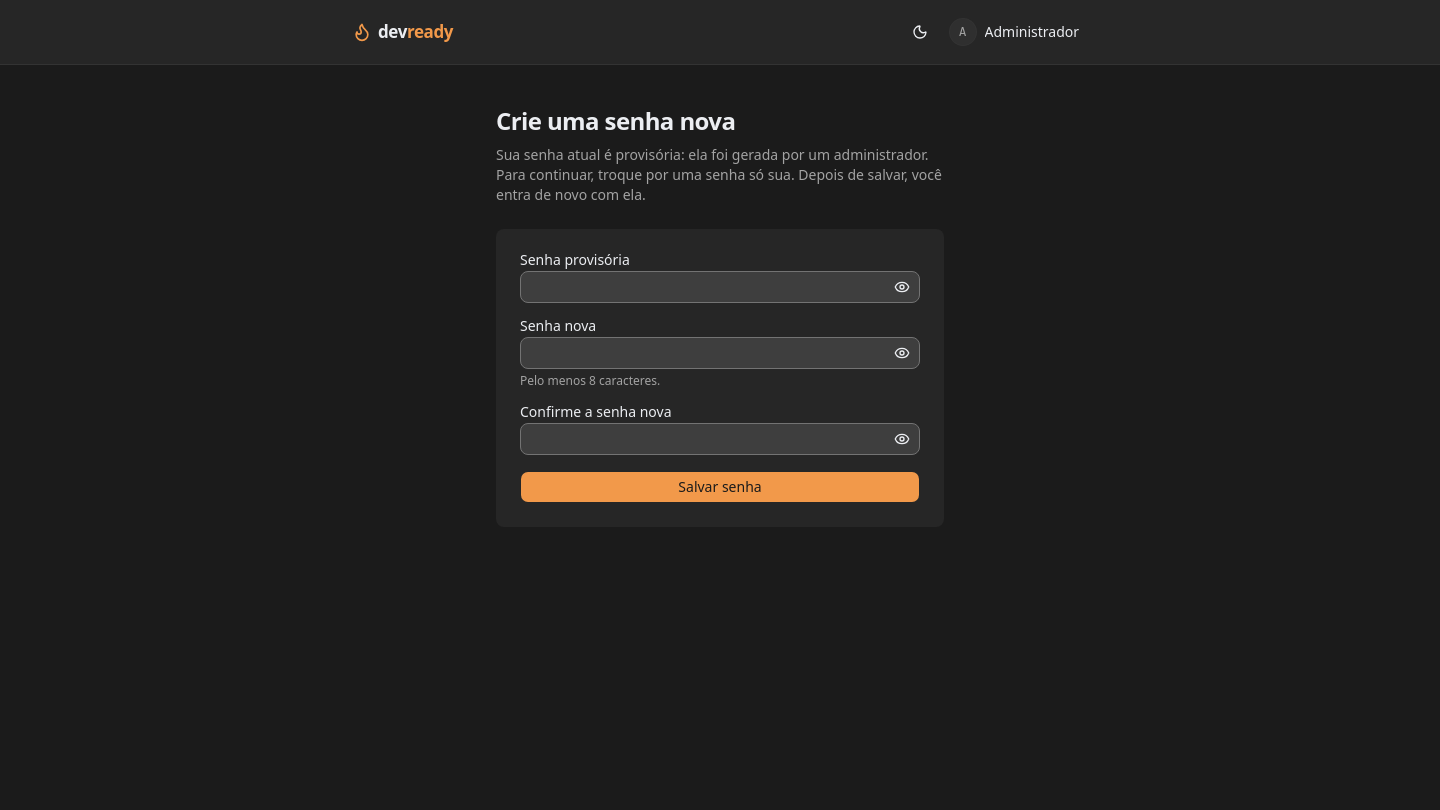
Test: ChangePasswordPage › grava pelo PATCH /me, encerra a sessão local e vai para o login com o aviso
The width and height of the screenshot is (1440, 810).
In the password field labelled "Senha provisória": coordinates (720, 287) [520,271,920,303], type "Provisoria000001"
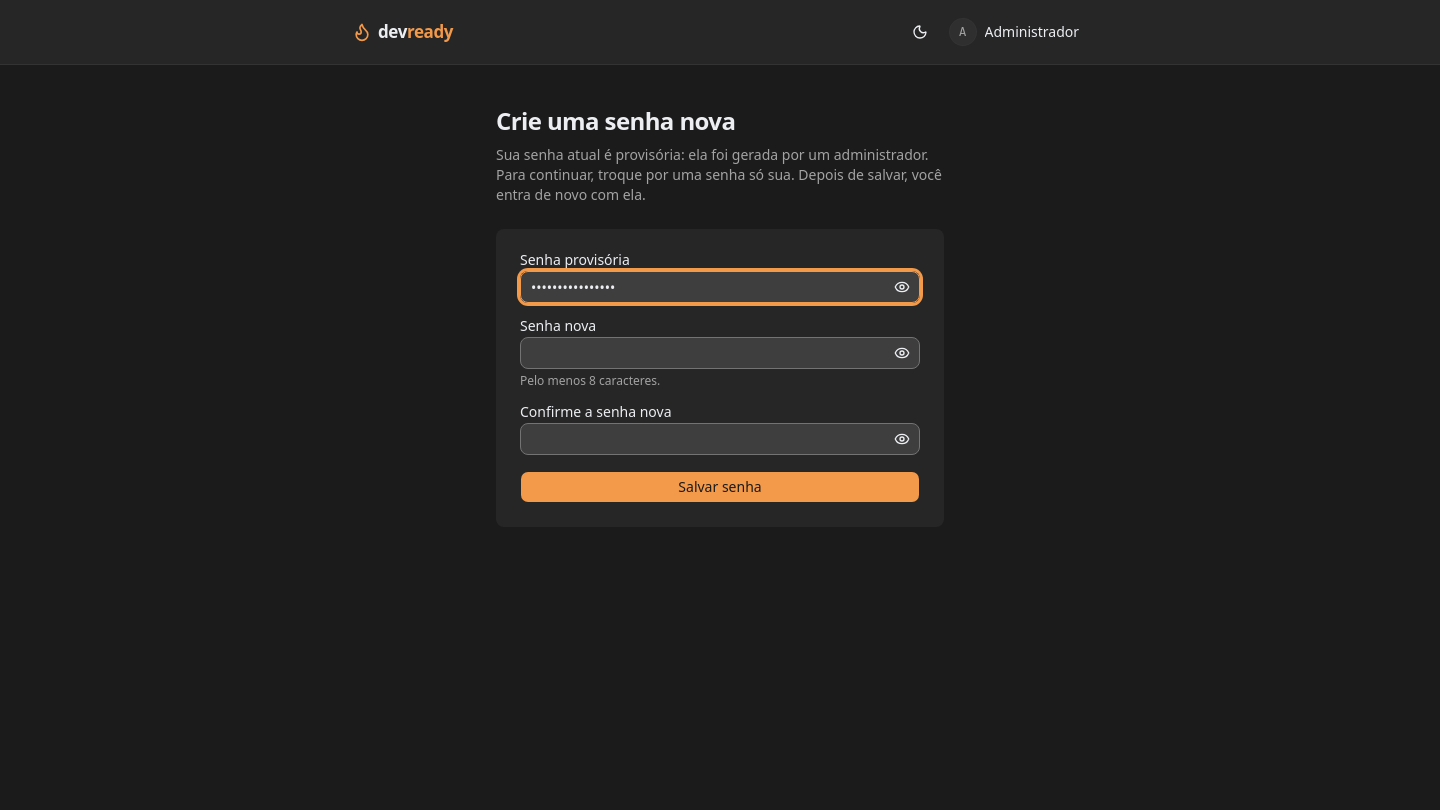
In the password field labelled "Senha nova": coordinates (720, 353) [520,337,920,369], type "senha-nova-1"
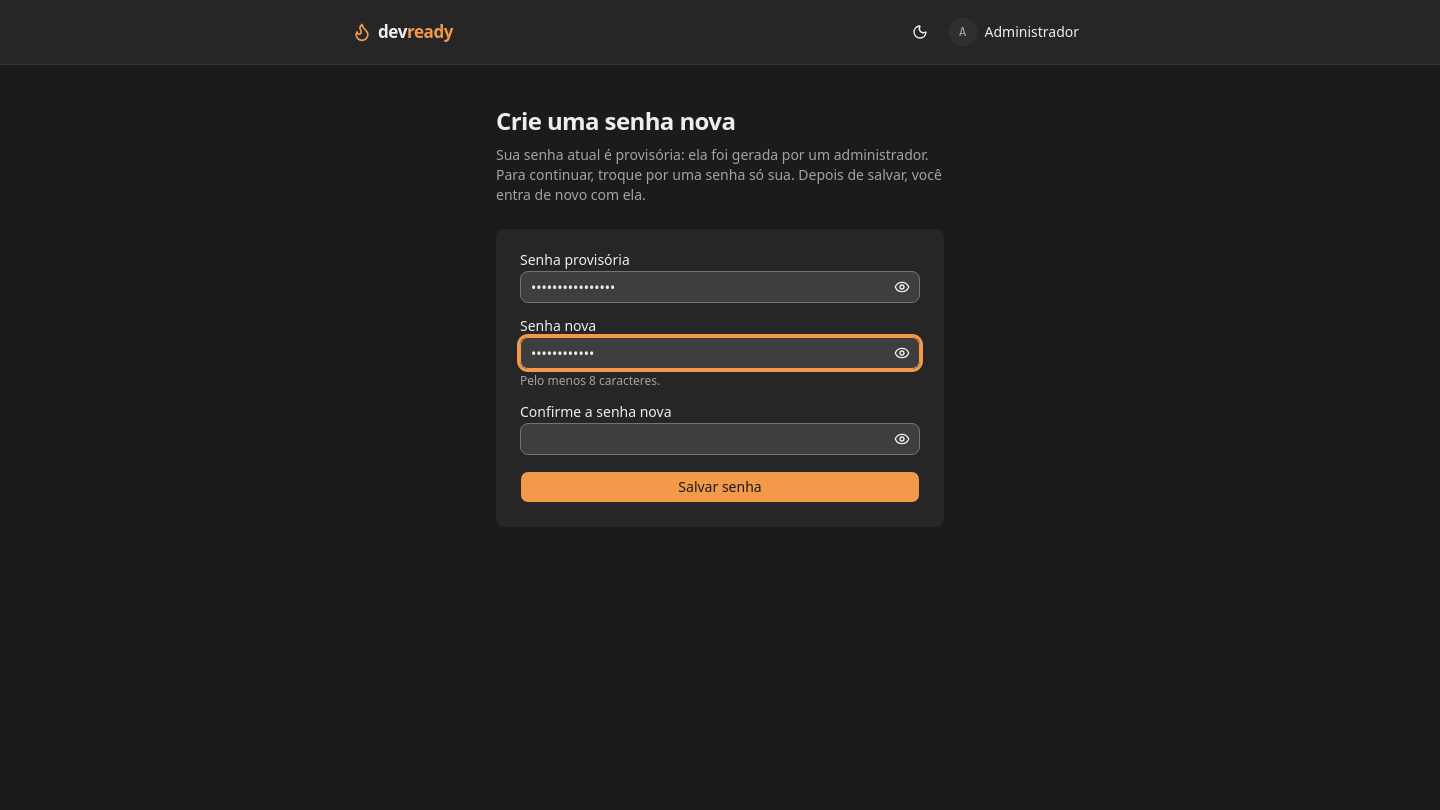
In the password field labelled "Confirme a senha nova": coordinates (720, 439) [520,423,920,455], type "senha-nova-1"
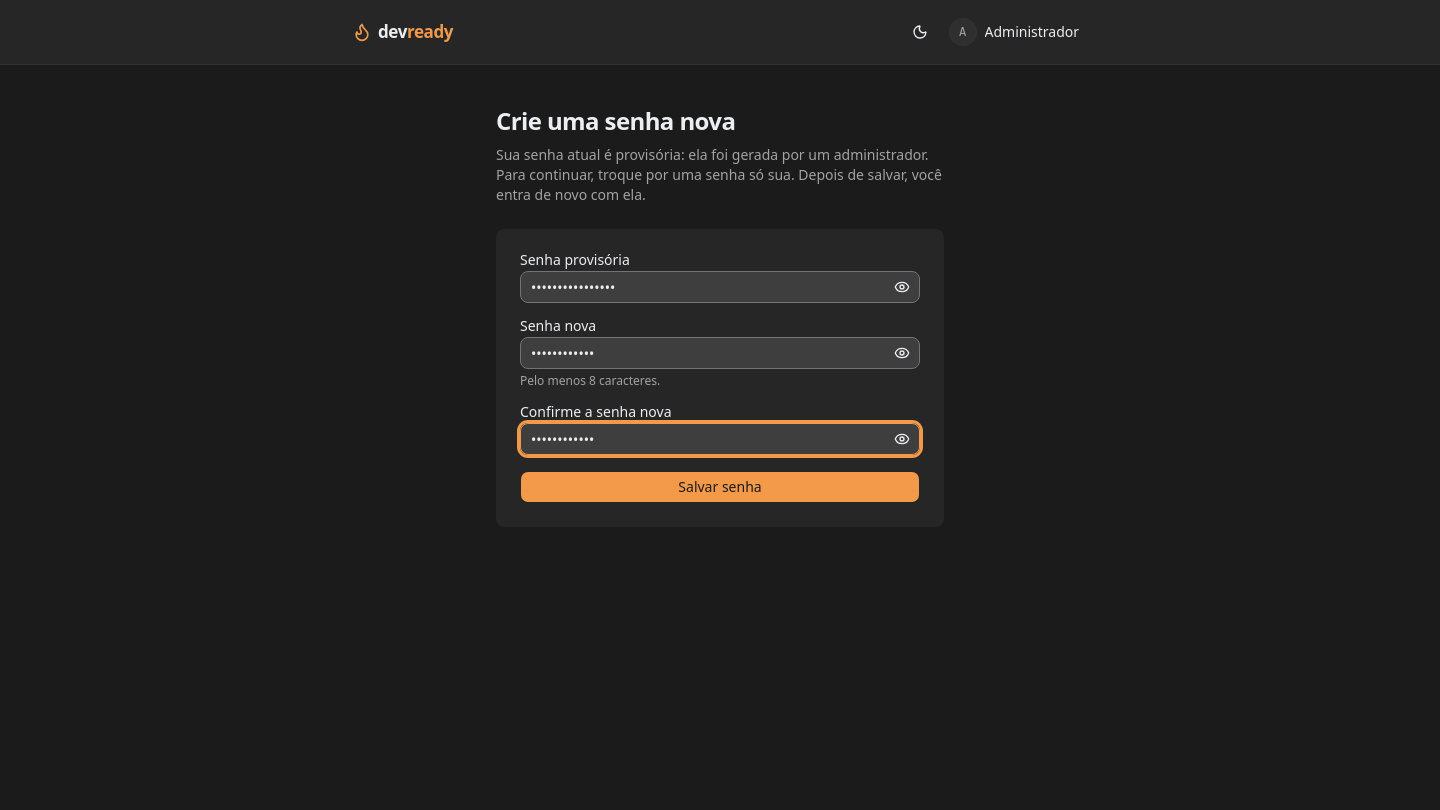
Click the button "Salvar senha": coordinates (720, 487) [520,471,920,503]
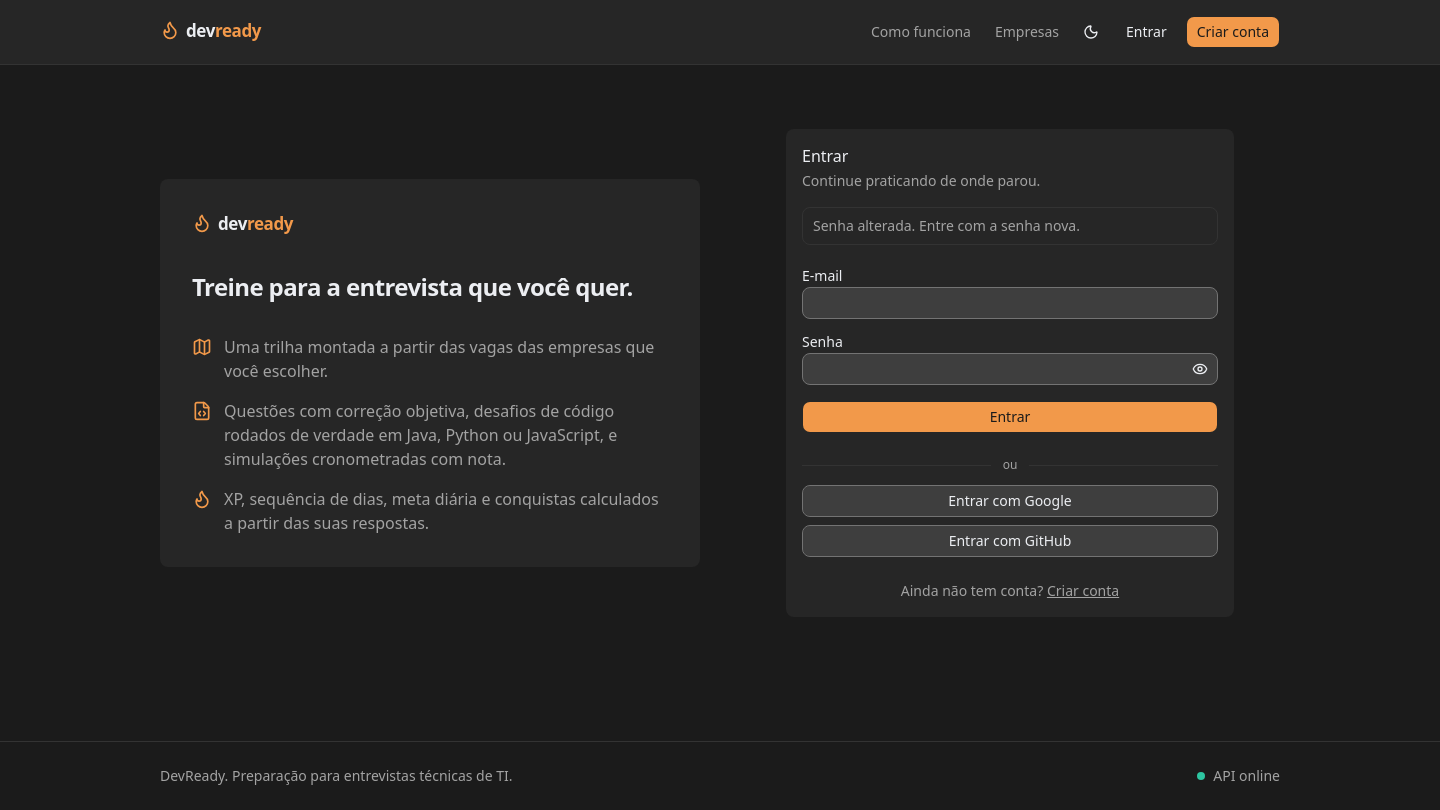
Result: the text "Senha alterada. Entre com a senha nova." is shown at [813,216,1080,235]
